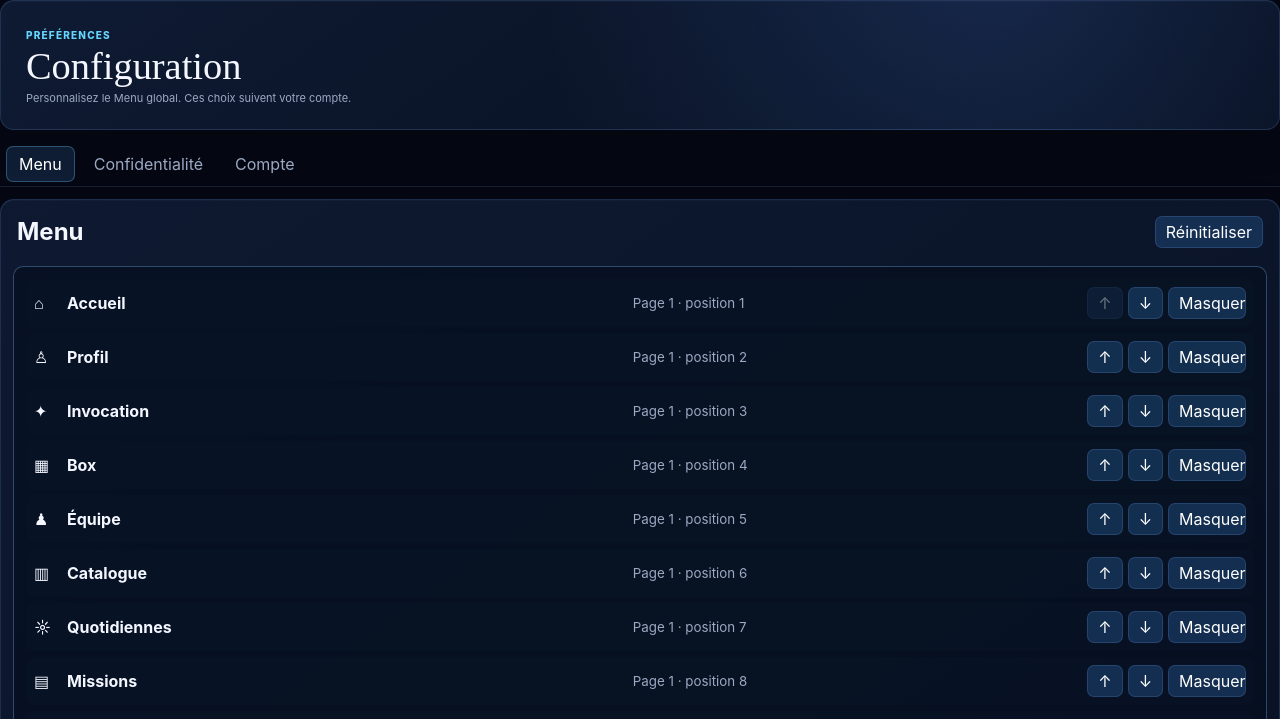
Test: Social screens › keeps confirmed privacy after a failed save, then accepts server confirmation without touching Menu
Click the button "Confidentialité".
click(148, 164)  # box [81,146,216,182]
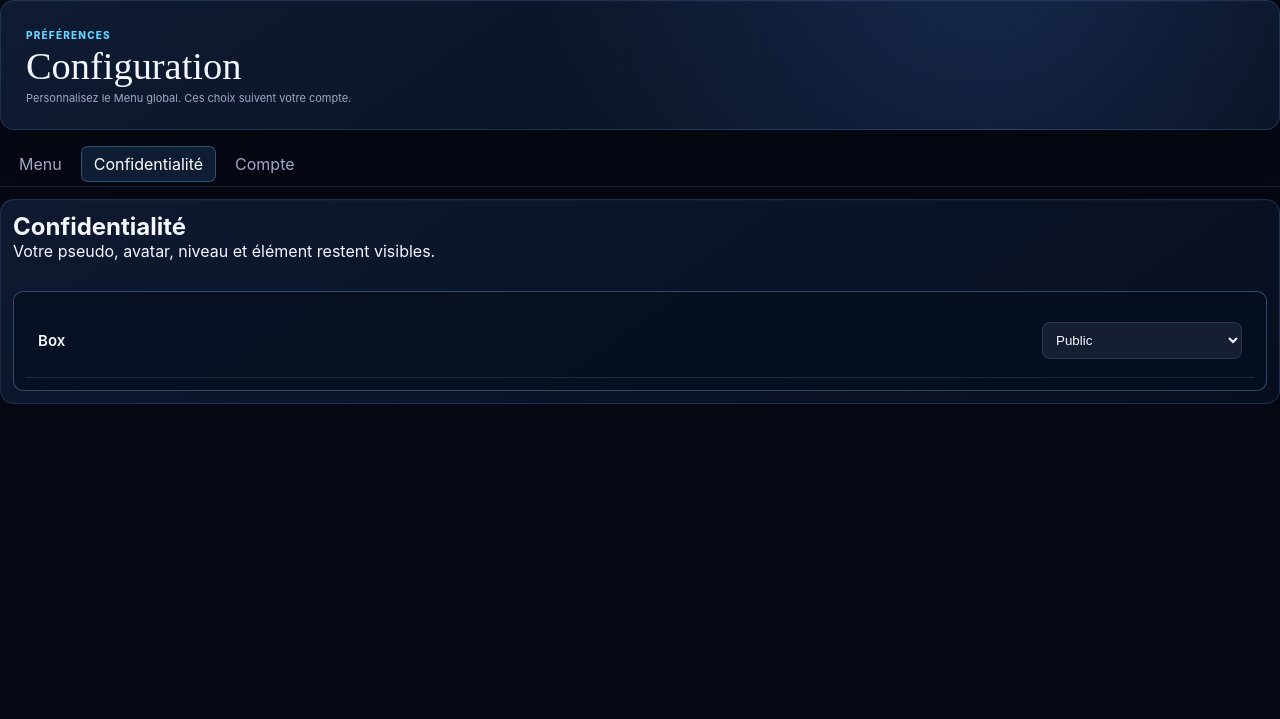
Now the dropdown named "Box" shows "Public"
Select "Privé" in the dropdown named "Box" at [1142, 340], box [1042,322,1242,359]
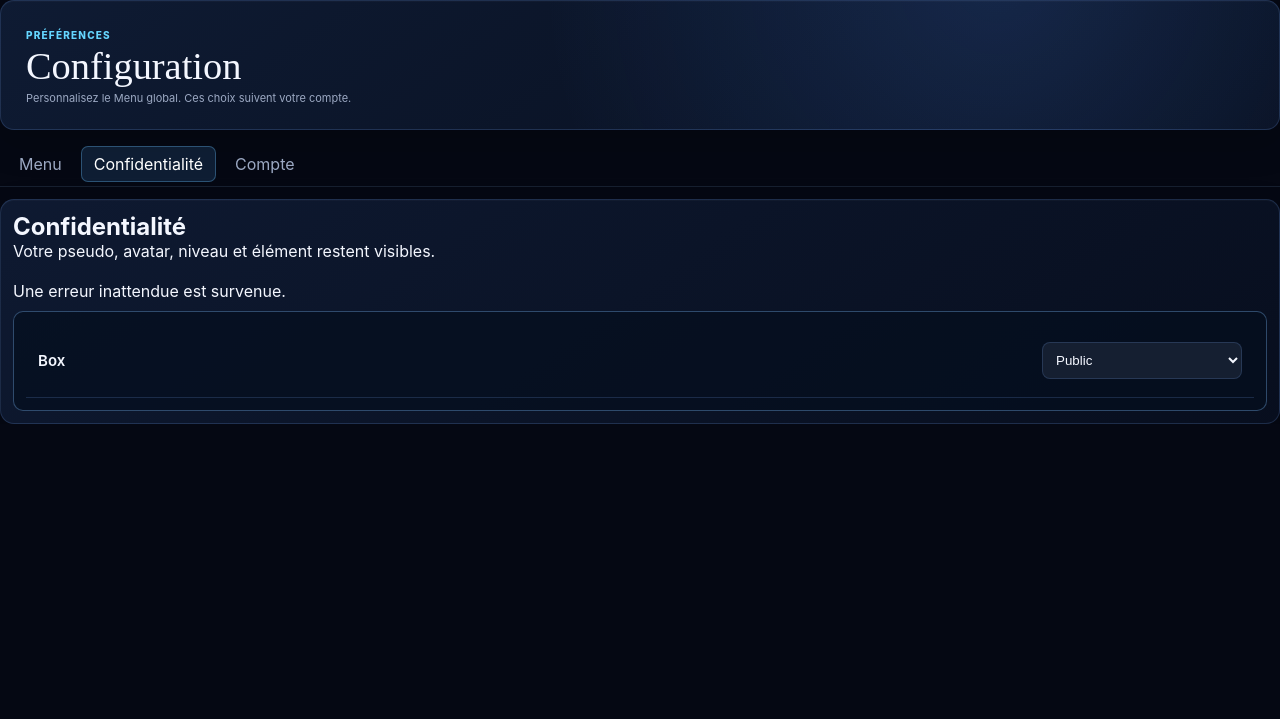
Now the dropdown named "Box" is enabled
Now the message "Une erreur inattendue est survenue." is shown, box [13,281,286,301]
Select "Privé" in the dropdown named "Box" at [1142, 360], box [1042,342,1242,379]
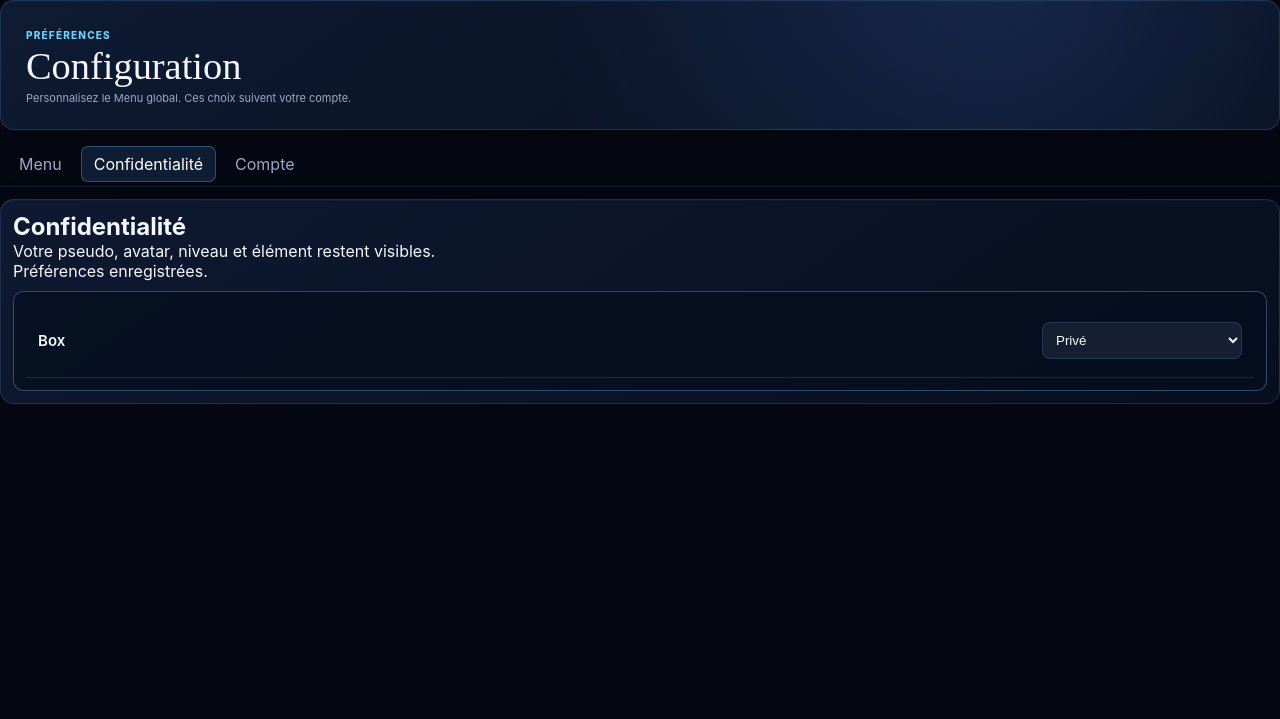
Now the text "Préférences enregistrées." is shown, box [13,261,208,281]
Now the message "Une erreur inattendue est survenue." is gone
